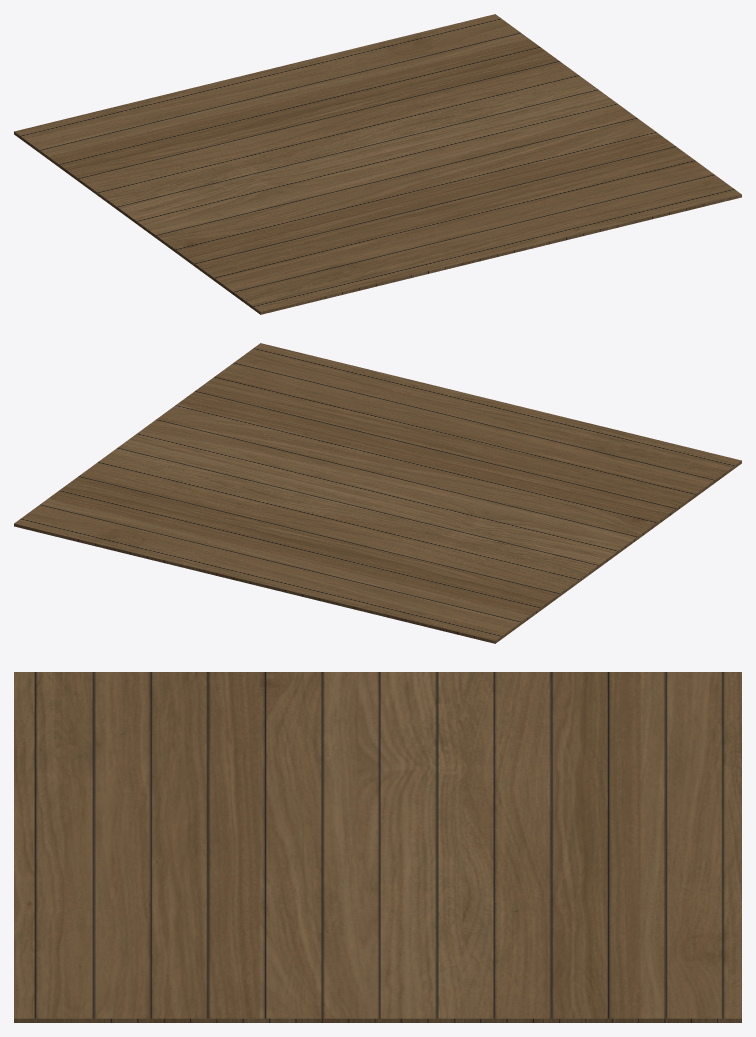
Rendered from SM_SJJ_HG_Floor03C.fbx.
3 views of the same model, one above another, from view 1: azimuth 30°, elevation 25°; view 2: azimuth 150°, elevation 25°; view 3: azimuth 270°, elevation 25° (orthographic). The views are drawn at different scales.
Parts seen in each view (by area): view 1: SM_SJJ_HG_Floor03C; view 2: SM_SJJ_HG_Floor03C; view 3: SM_SJJ_HG_Floor03C.
Part boxes in pixels (box(x1,y1,x2,y2)): SM_SJJ_HG_Floor03C: box(14, 14, 741, 314); SM_SJJ_HG_Floor03C: box(14, 343, 741, 643); SM_SJJ_HG_Floor03C: box(14, 672, 741, 1022).
Size of the model in its own units: 487 by 432 by 2.78.
1 material, 1 textured.
